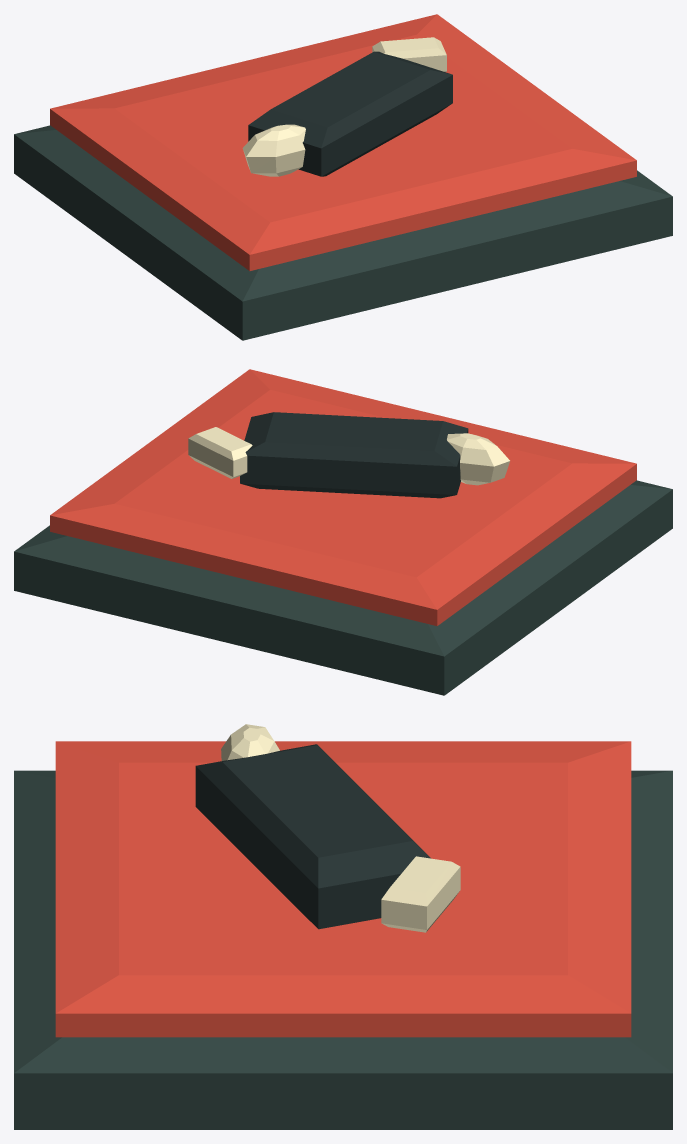
The model's file is badge_r.obj.
3 views of the same model, one above another, from view 1: azimuth 30°, elevation 25°; view 2: azimuth 150°, elevation 25°; view 3: azimuth 270°, elevation 25° (orthographic). The views are drawn at different scales.
Parts seen in each view (by area): view 1: badge_r; view 2: badge_r; view 3: badge_r.
Part boxes in pixels (bbox=[...]): badge_r: bbox=[14, 14, 672, 340]; badge_r: bbox=[14, 369, 672, 695]; badge_r: bbox=[14, 724, 672, 1129].
Bounding box in the file's own units: 0.25 × 0.0746 × 0.23.
